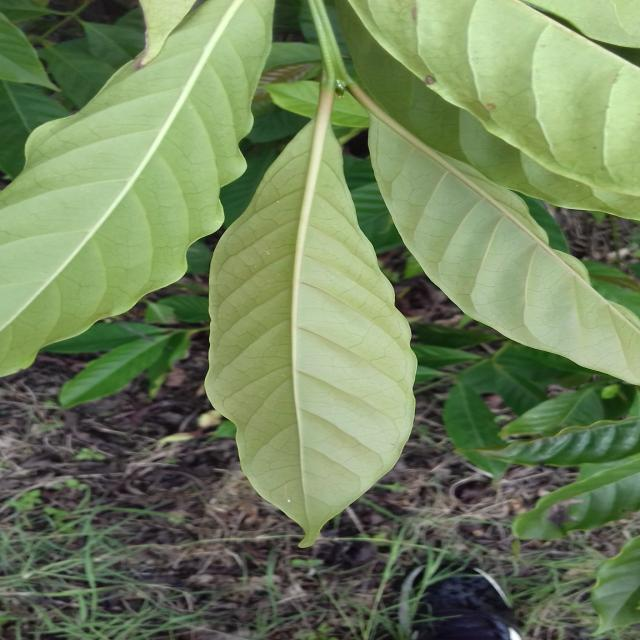Sanas: (204, 110, 418, 550)
